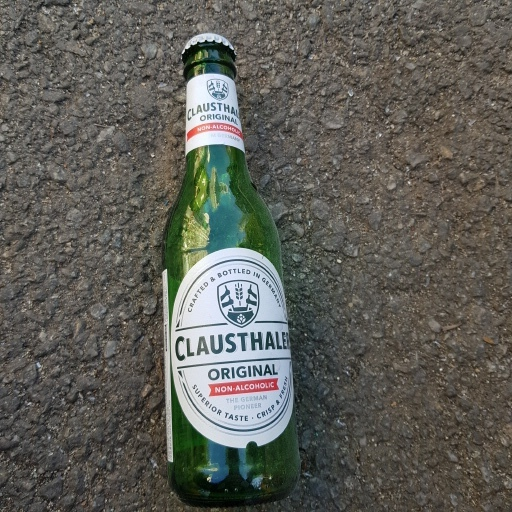Glass_1: (156, 33, 305, 507)
